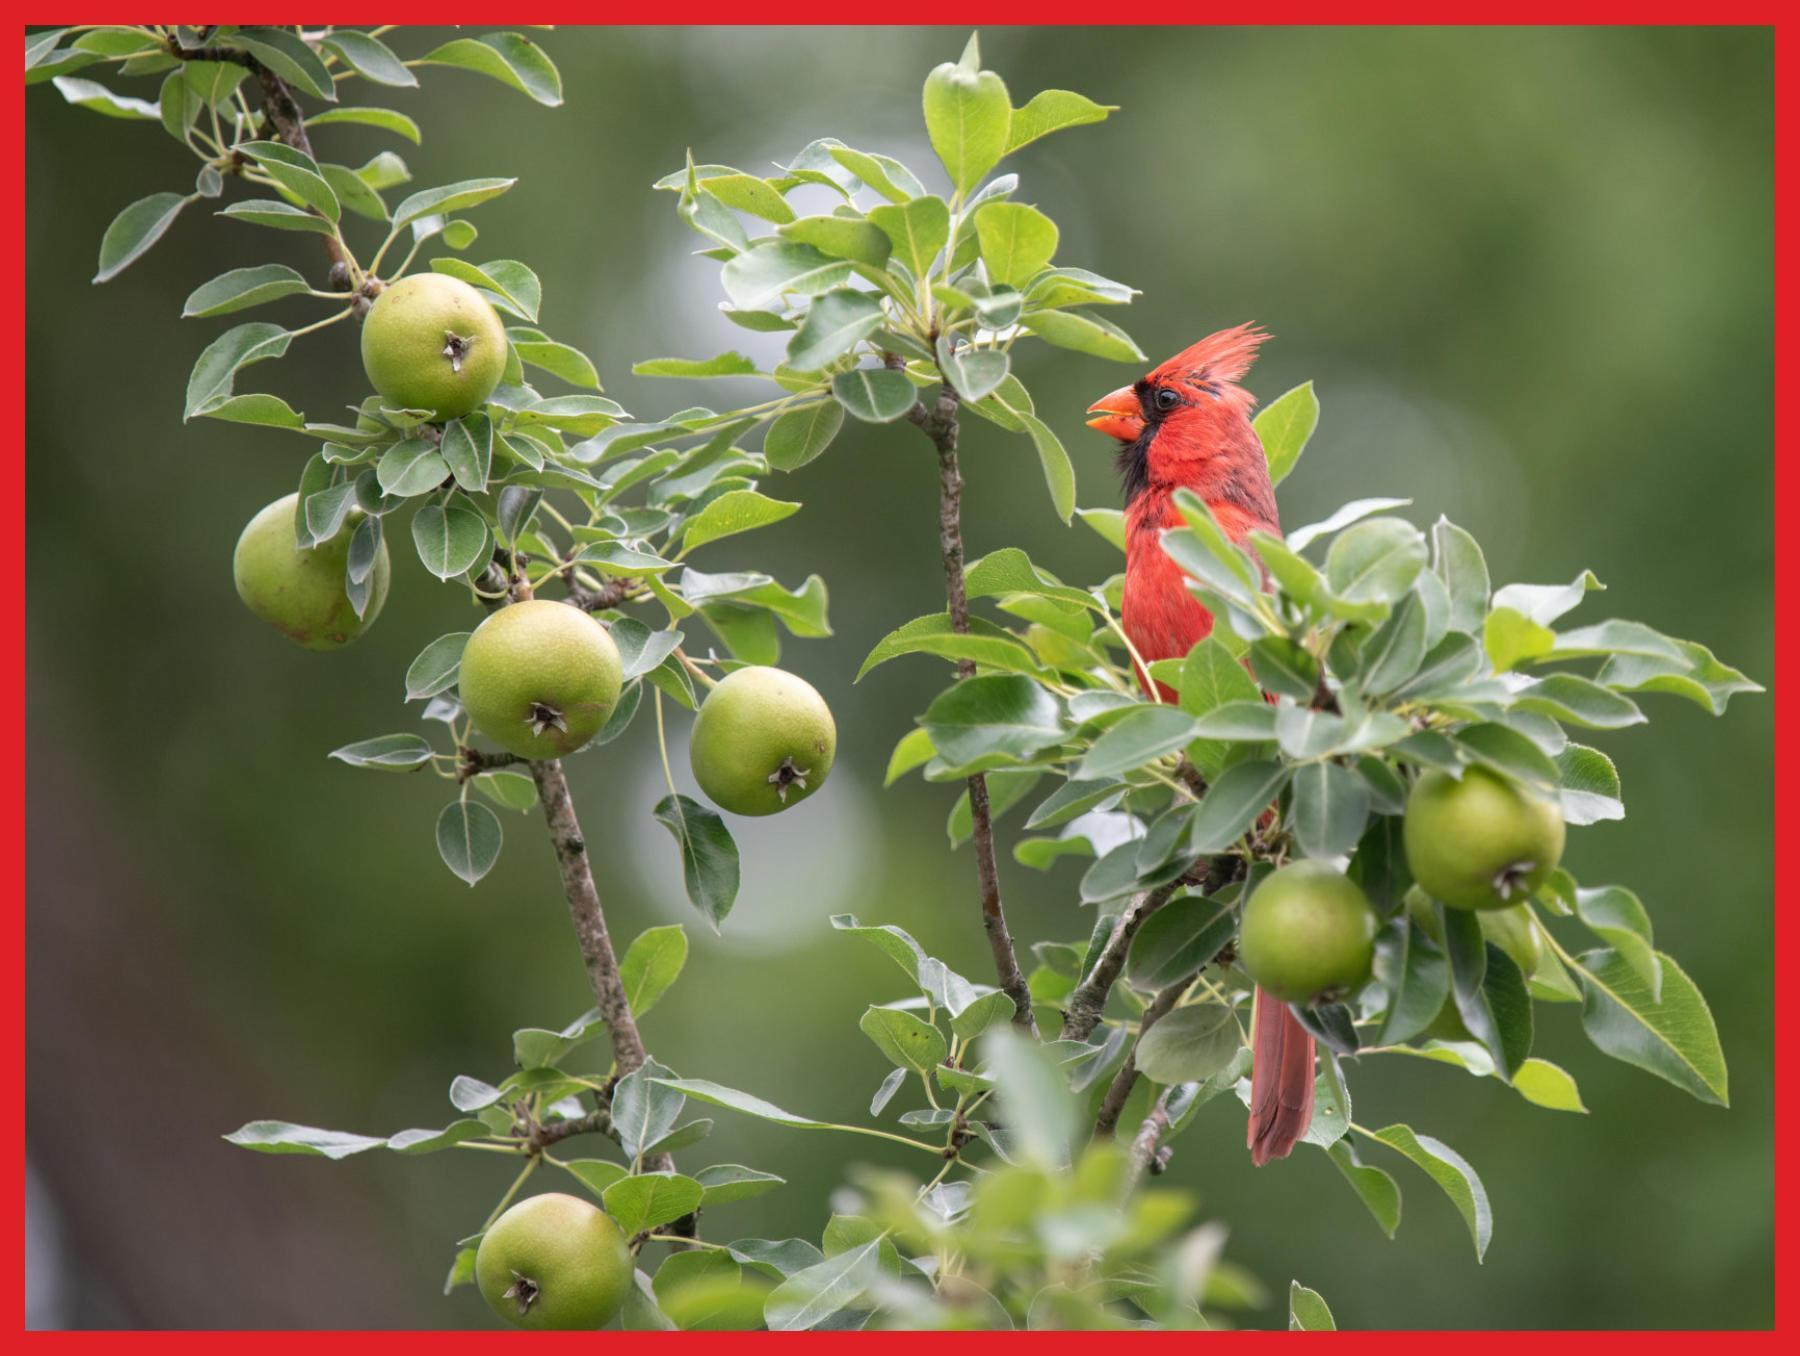apple: (457, 600, 629, 761), (229, 484, 393, 650), (1403, 762, 1564, 914), (691, 662, 839, 818), (362, 273, 516, 419), (474, 1194, 634, 1328), (1237, 859, 1377, 1011)
